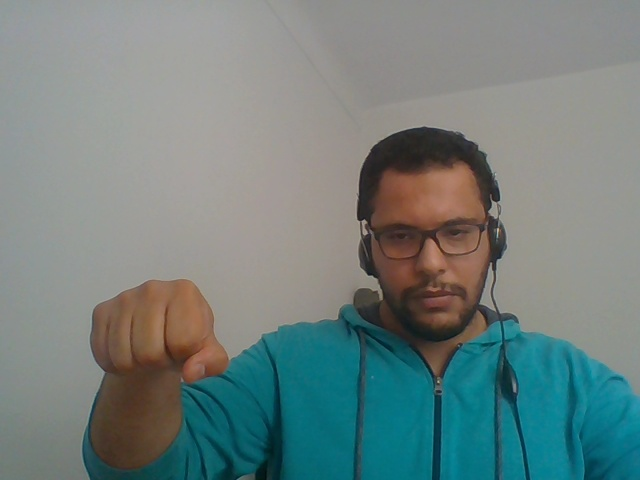yes: (72, 243, 239, 423)
